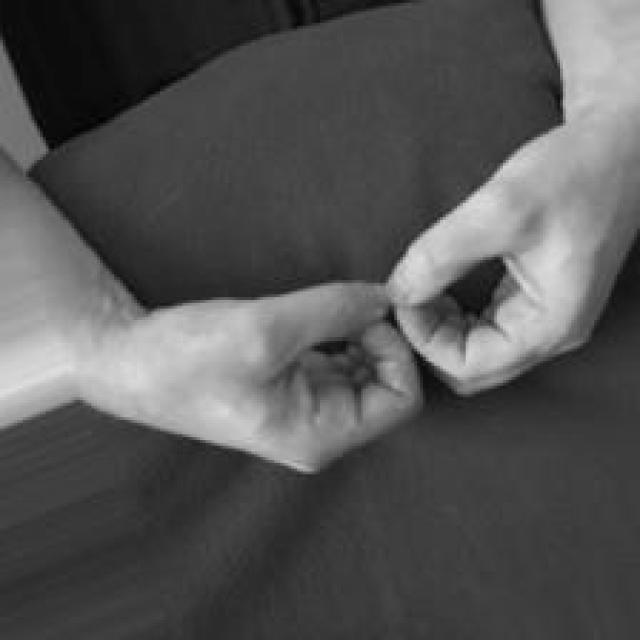B: (106, 124, 640, 475)
